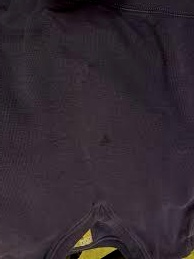oil: (97, 133, 115, 150)
